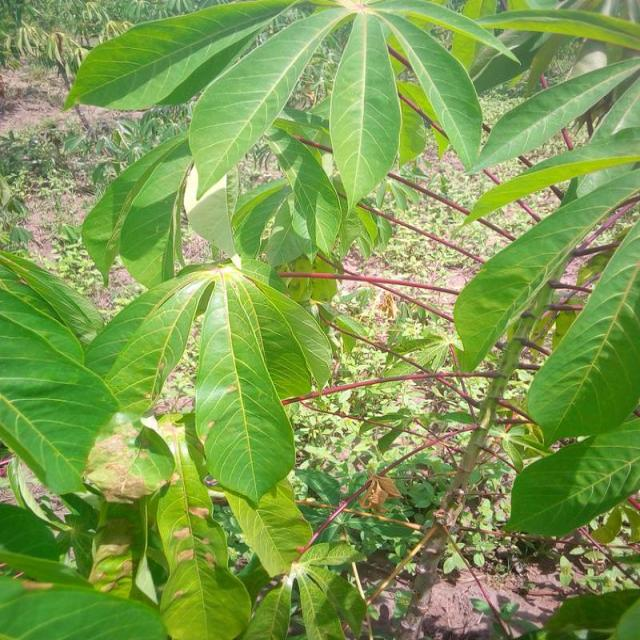cassava leaf: (188, 4, 354, 200), (526, 218, 640, 448), (194, 266, 297, 506), (504, 412, 640, 538), (330, 9, 403, 218)
